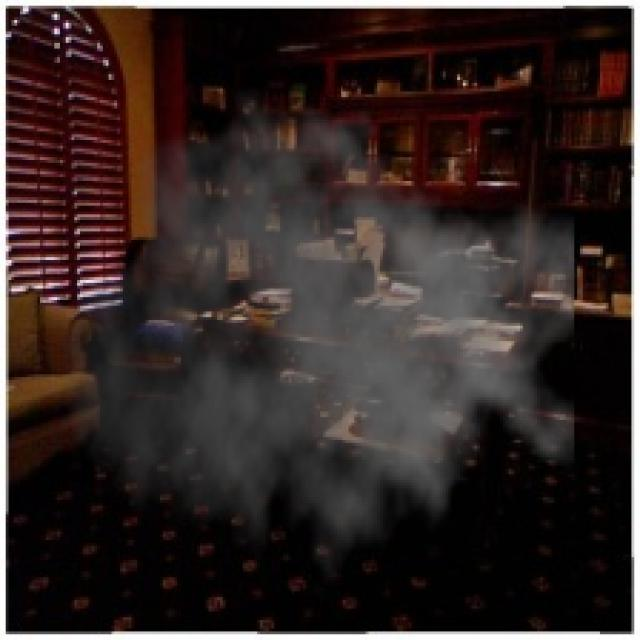smoke: (60, 85, 574, 606)
